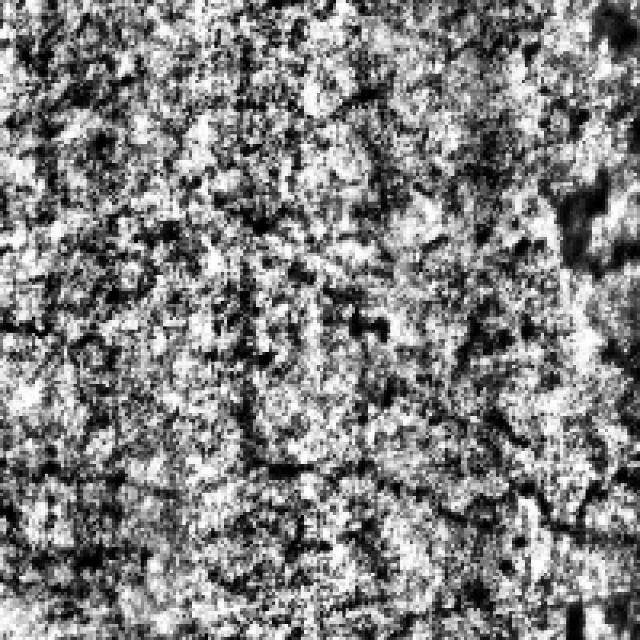Pitted_Surface: (234, 294, 636, 544)
